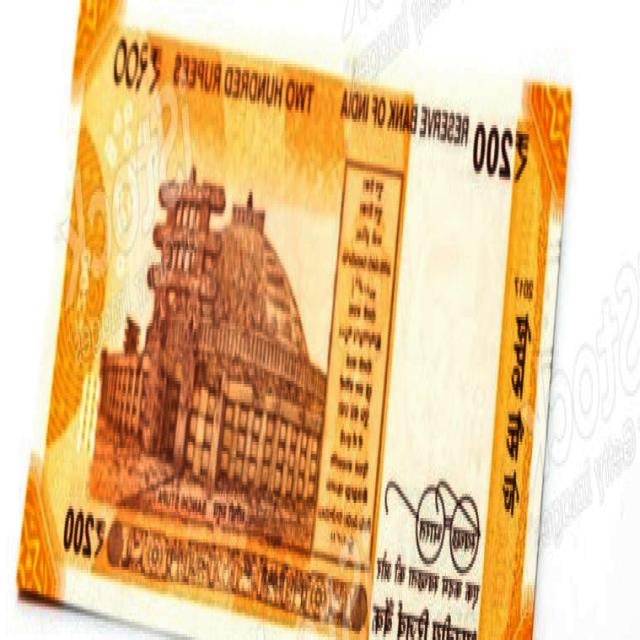200rs: (18, 0, 576, 640)
